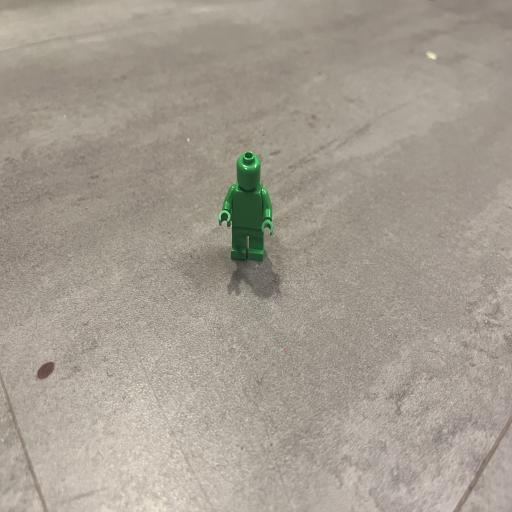Lego-Minifig: (219, 151, 273, 261)
